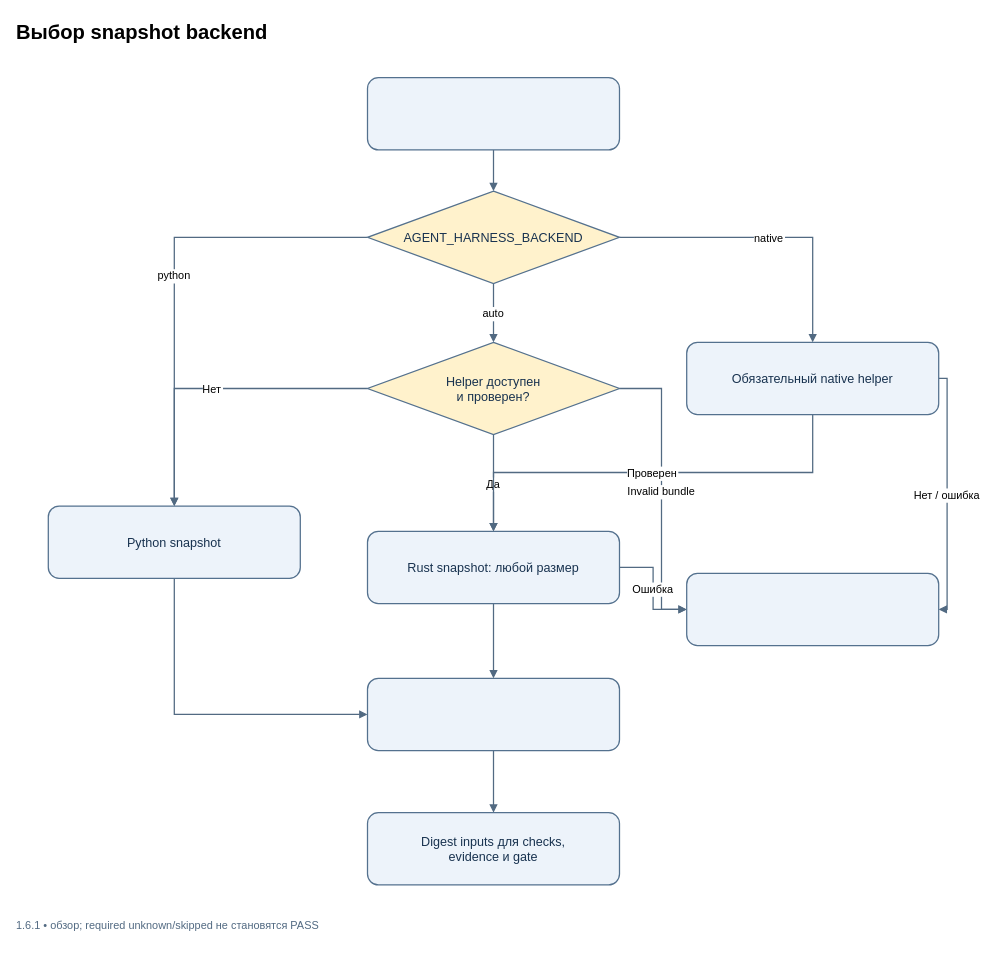
The diagram is 995 pixels wide and 953 high, and some of its shapes have lost their labels. The box of each missing label's shape, as (x1, y1, x2, y2) in pixels:
Запрос snapshot: (366, 77, 620, 150)
Полный content rehash и canonical manifest: (366, 677, 620, 751)
Явная ошибка; без повторного запуска через Python: (686, 572, 939, 646)
